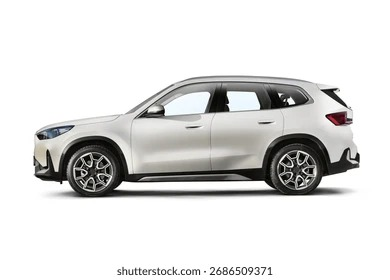car: (23, 76, 363, 195)
